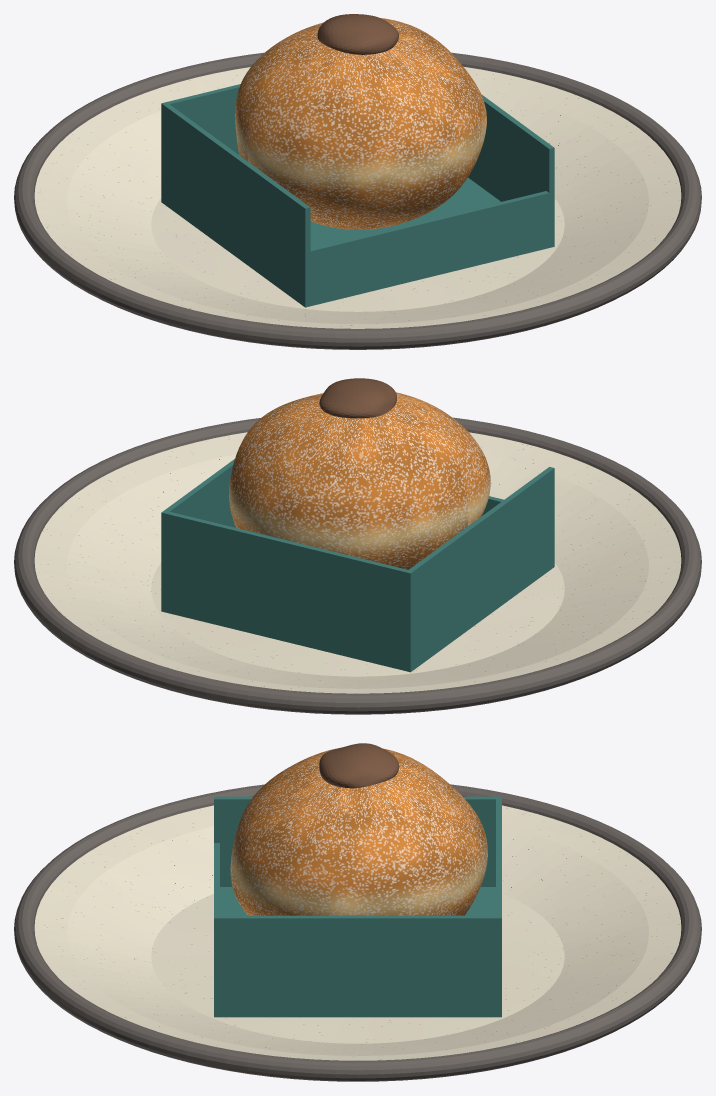
Rendered from nutella_bomboloni.glb.
3 renders of one model, top to bottom at view 1: azimuth 30°, elevation 25°; view 2: azimuth 150°, elevation 25°; view 3: azimuth 270°, elevation 25°, orthographic.
Parts seen in each view (by area): view 1: nutella_bomboloni__plate_1, nutella_bomboloni__dough_8, nutella_bomboloni__plate_rim_2, nutella_bomboloni__wall_l_5, nutella_bomboloni__wall_f_7, nutella_bomboloni__box_floor_3, nutella_bomboloni__wall_r_6, nutella_bomboloni__wall_b_4, nutella_bomboloni__nutella_9; view 2: nutella_bomboloni__plate_1, nutella_bomboloni__dough_8, nutella_bomboloni__plate_rim_2, nutella_bomboloni__wall_b_4, nutella_bomboloni__wall_l_5, nutella_bomboloni__box_floor_3, nutella_bomboloni__wall_r_6, nutella_bomboloni__nutella_9; view 3: nutella_bomboloni__plate_1, nutella_bomboloni__dough_8, nutella_bomboloni__wall_r_6, nutella_bomboloni__plate_rim_2, nutella_bomboloni__box_floor_3, nutella_bomboloni__wall_l_5, nutella_bomboloni__nutella_9, nutella_bomboloni__wall_b_4, nutella_bomboloni__wall_f_7.
Boxes of the visible parts, left/top/right/bottom form: nutella_bomboloni__plate_1: left=34, top=66, right=681, bottom=328; nutella_bomboloni__dough_8: left=235, top=18, right=486, bottom=229; nutella_bomboloni__plate_rim_2: left=14, top=52, right=701, bottom=349; nutella_bomboloni__wall_l_5: left=161, top=102, right=310, bottom=296; nutella_bomboloni__wall_f_7: left=303, top=191, right=554, bottom=294; nutella_bomboloni__box_floor_3: left=161, top=178, right=554, bottom=307; nutella_bomboloni__wall_r_6: left=468, top=94, right=554, bottom=231; nutella_bomboloni__wall_b_4: left=161, top=84, right=240, bottom=192; nutella_bomboloni__nutella_9: left=317, top=14, right=399, bottom=54; nutella_bomboloni__plate_1: left=34, top=432, right=681, bottom=693; nutella_bomboloni__dough_8: left=229, top=392, right=490, bottom=569; nutella_bomboloni__plate_rim_2: left=14, top=417, right=701, bottom=714; nutella_bomboloni__wall_b_4: left=161, top=510, right=413, bottom=661; nutella_bomboloni__wall_l_5: left=405, top=467, right=554, bottom=660; nutella_bomboloni__box_floor_3: left=161, top=556, right=554, bottom=672; nutella_bomboloni__wall_r_6: left=161, top=459, right=235, bottom=601; nutella_bomboloni__nutella_9: left=319, top=378, right=396, bottom=418; nutella_bomboloni__plate_1: left=34, top=805, right=681, bottom=1060; nutella_bomboloni__dough_8: left=230, top=748, right=487, bottom=915; nutella_bomboloni__wall_r_6: left=214, top=915, right=501, bottom=1006; nutella_bomboloni__plate_rim_2: left=14, top=784, right=701, bottom=1081; nutella_bomboloni__box_floor_3: left=214, top=887, right=501, bottom=1017; nutella_bomboloni__wall_l_5: left=214, top=796, right=501, bottom=886; nutella_bomboloni__nutella_9: left=319, top=743, right=399, bottom=788; nutella_bomboloni__wall_b_4: left=496, top=796, right=501, bottom=1006; nutella_bomboloni__wall_f_7: left=214, top=843, right=219, bottom=1005.
Size of the model in its own units: 0.227 by 0.0826 by 0.227.
5 materials, 2 textured.
